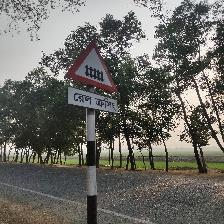Rail-crossing: (64, 41, 120, 115)
